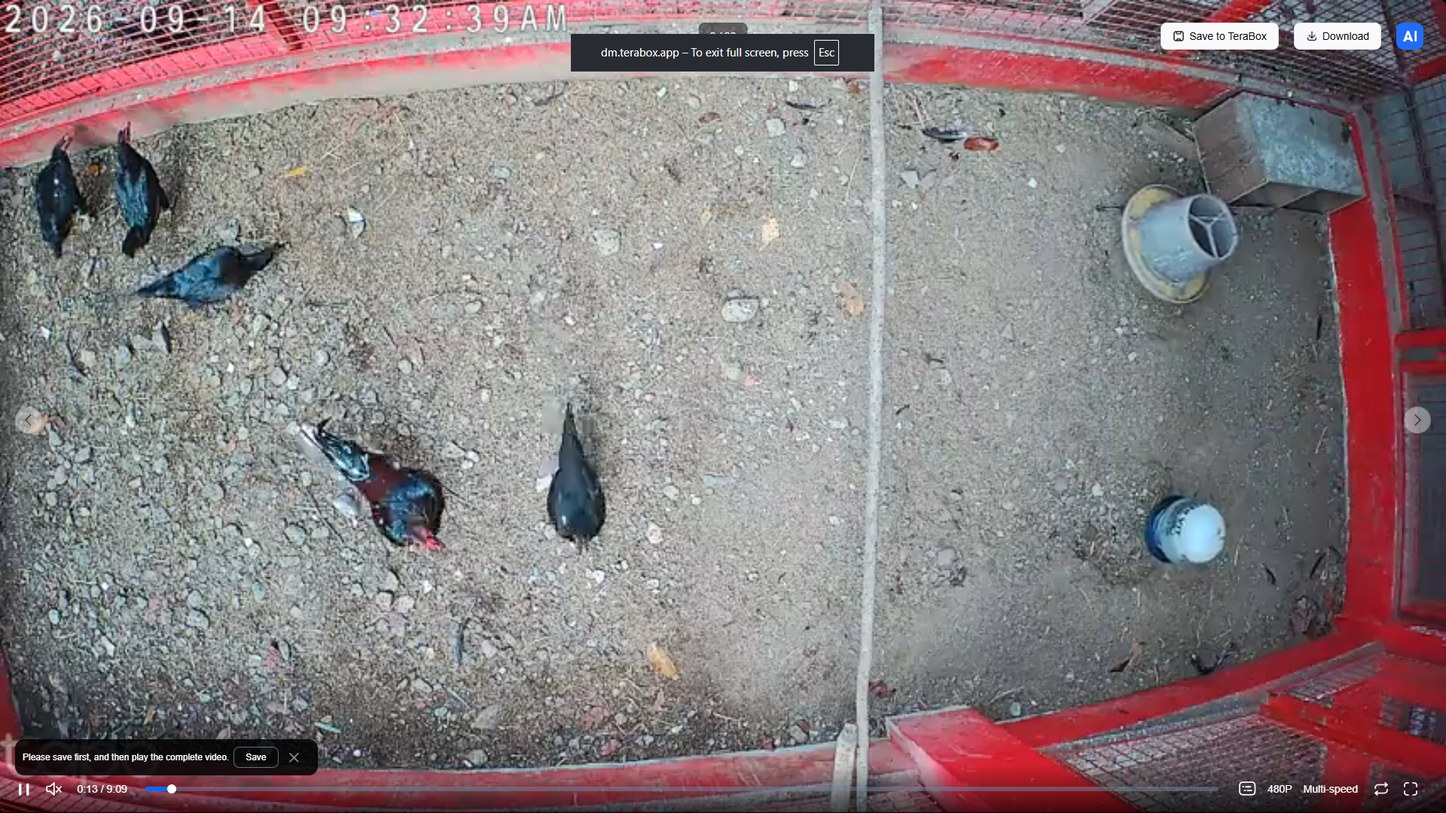Chicken: (127, 232, 299, 307), (103, 121, 176, 264), (544, 402, 610, 555), (22, 135, 101, 261)
Drinker: (1144, 491, 1232, 565)
Feeder: (1119, 179, 1242, 306)
Rooster: (311, 416, 463, 556)
